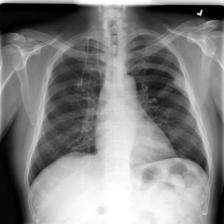normal: (25, 31, 210, 219)
